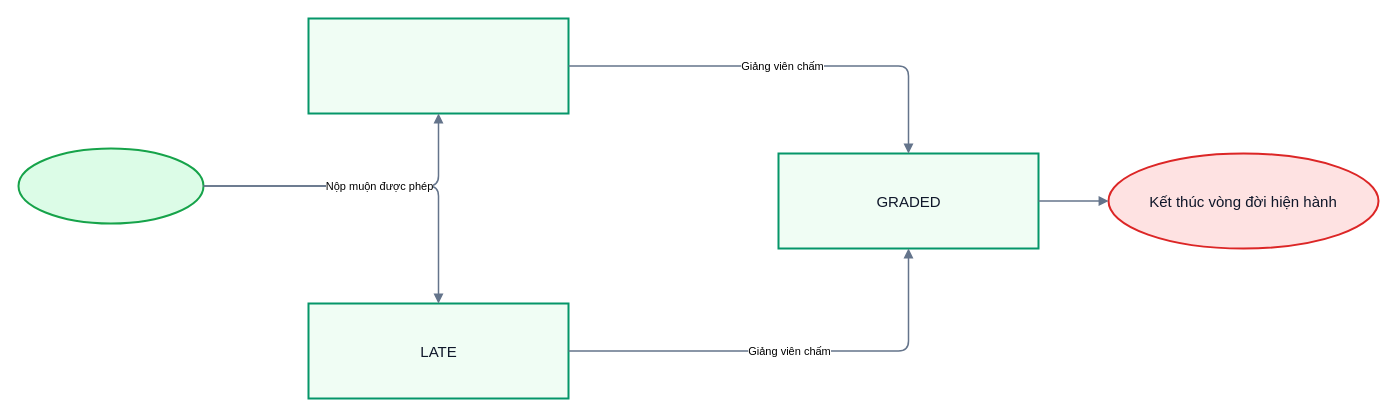
Image size: 1396x416. Some labels were removed from this diagram. Each missing label, with the box of its shape:
Bắt đầu: (17, 147, 204, 224)
SUBMITTED: (307, 17, 569, 114)
